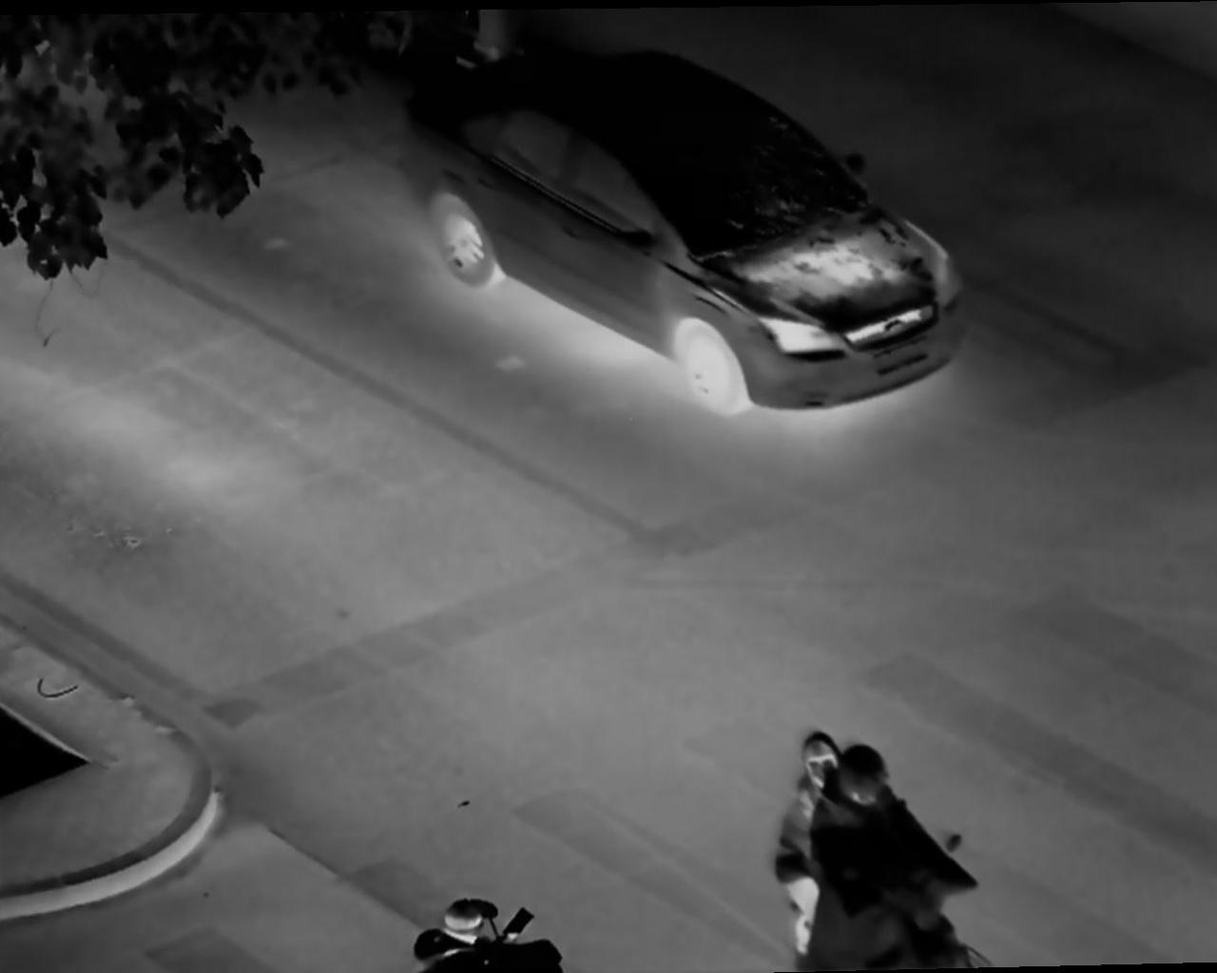person: (822, 753, 947, 943), (772, 716, 835, 923)
